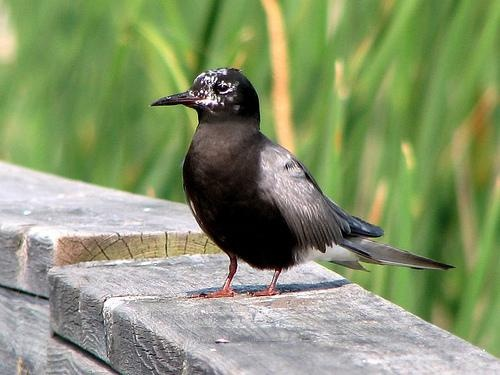bird: (152, 65, 448, 296)
